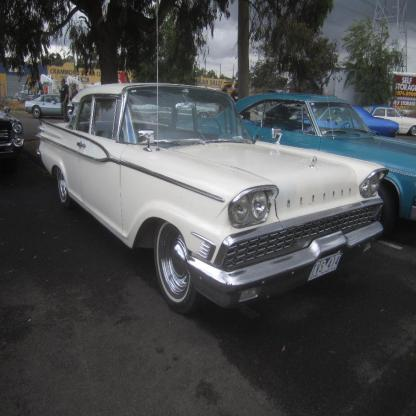Car: (198, 93, 416, 230), (25, 93, 89, 119), (0, 102, 27, 157), (368, 107, 416, 136), (175, 101, 214, 121)
